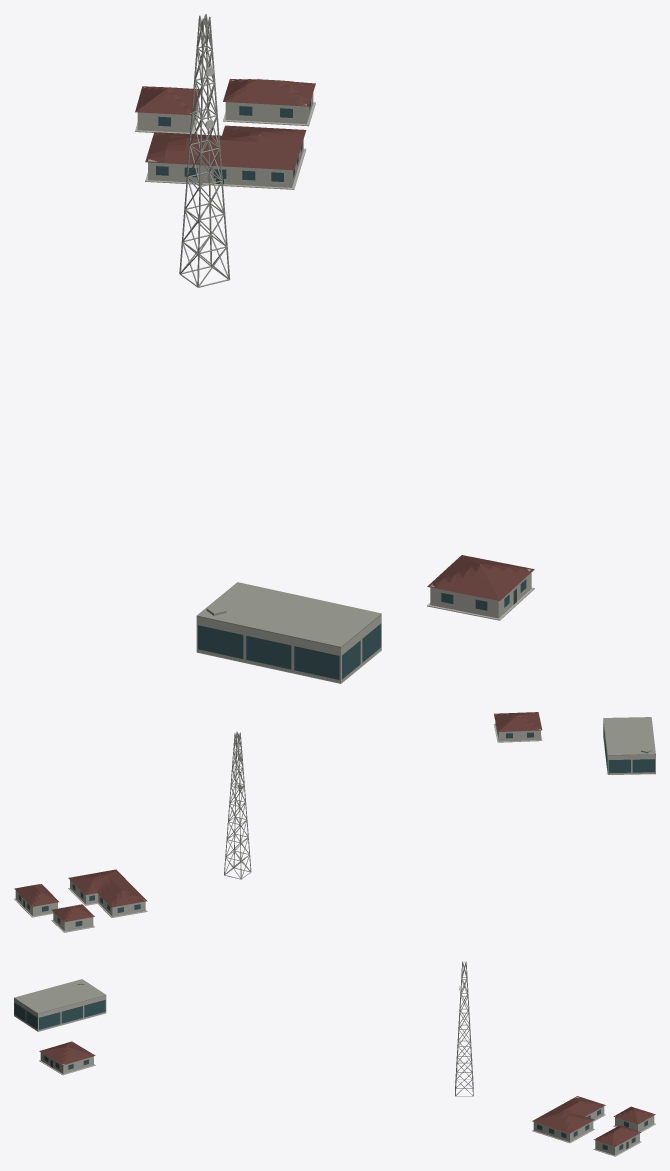
File: TM-Bukit-Lanjan.glb
The picture shows the model from 3 angles, top to bottom: view 1: azimuth 30°, elevation 25°; view 2: azimuth 150°, elevation 25°; view 3: azimuth 270°, elevation 25°; orthographic projection. The views are drawn at different scales.
Parts seen in each view (by area): view 1: TM Bukit Lanjan — exchange building — reviewed exterior, TM Bukit Lanjan — red-roof equipment building — reviewed ext, TM Bukit Lanjan — communications mast — reviewed exterior, TM Bukit Lanjan — service building 1125645849 — reviewed ext, TM Bukit Lanjan — service building 1125645853 — reviewed ext, TM Bukit Lanjan — service building 1125645854 — reviewed ext; view 2: TM Bukit Lanjan — exchange building — reviewed exterior, TM Bukit Lanjan — red-roof equipment building — reviewed ext, TM Bukit Lanjan — communications mast — reviewed exterior, TM Bukit Lanjan — service building 1125645849 — reviewed ext, TM Bukit Lanjan — service building 1125645853 — reviewed ext, TM Bukit Lanjan — service building 1125645854 — reviewed ext; view 3: TM Bukit Lanjan — exchange building — reviewed exterior, TM Bukit Lanjan — red-roof equipment building — reviewed ext, TM Bukit Lanjan — service building 1125645849 — reviewed ext, TM Bukit Lanjan — communications mast — reviewed exterior, TM Bukit Lanjan — service building 1125645853 — reviewed ext, TM Bukit Lanjan — service building 1125645854 — reviewed ext.
Boxes of the visible parts, x1=… form: TM Bukit Lanjan — exchange building — reviewed exterior: x1=196, y1=582, x2=381, y2=683; TM Bukit Lanjan — red-roof equipment building — reviewed ext: x1=145, y1=125, x2=306, y2=189; TM Bukit Lanjan — communications mast — reviewed exterior: x1=179, y1=14, x2=230, y2=287; TM Bukit Lanjan — service building 1125645849 — reviewed ext: x1=427, y1=555, x2=534, y2=620; TM Bukit Lanjan — service building 1125645853 — reviewed ext: x1=223, y1=78, x2=315, y2=126; TM Bukit Lanjan — service building 1125645854 — reviewed ext: x1=135, y1=86, x2=200, y2=134; TM Bukit Lanjan — exchange building — reviewed exterior: x1=603, y1=717, x2=655, y2=774; TM Bukit Lanjan — red-roof equipment building — reviewed ext: x1=68, y1=869, x2=147, y2=917; TM Bukit Lanjan — communications mast — reviewed exterior: x1=224, y1=731, x2=251, y2=879; TM Bukit Lanjan — service building 1125645849 — reviewed ext: x1=493, y1=712, x2=542, y2=742; TM Bukit Lanjan — service building 1125645853 — reviewed ext: x1=14, y1=884, x2=58, y2=917; TM Bukit Lanjan — service building 1125645854 — reviewed ext: x1=51, y1=904, x2=94, y2=932; TM Bukit Lanjan — exchange building — reviewed exterior: x1=14, y1=979, x2=106, y2=1031; TM Bukit Lanjan — red-roof equipment building — reviewed ext: x1=532, y1=1096, x2=605, y2=1143; TM Bukit Lanjan — service building 1125645849 — reviewed ext: x1=39, y1=1041, x2=95, y2=1075; TM Bukit Lanjan — communications mast — reviewed exterior: x1=455, y1=961, x2=473, y2=1096; TM Bukit Lanjan — service building 1125645853 — reviewed ext: x1=593, y1=1125, x2=641, y2=1156; TM Bukit Lanjan — service building 1125645854 — reviewed ext: x1=613, y1=1106, x2=655, y2=1132.
Bounding box in the file's own units: 104 × 40 × 178.
